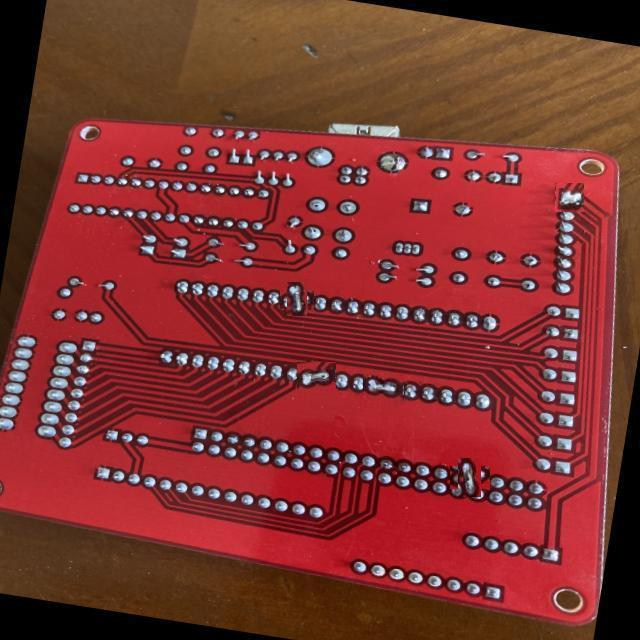damged: (297, 362, 336, 390), (363, 374, 404, 400), (454, 462, 486, 493), (555, 183, 584, 212), (283, 286, 311, 313)
